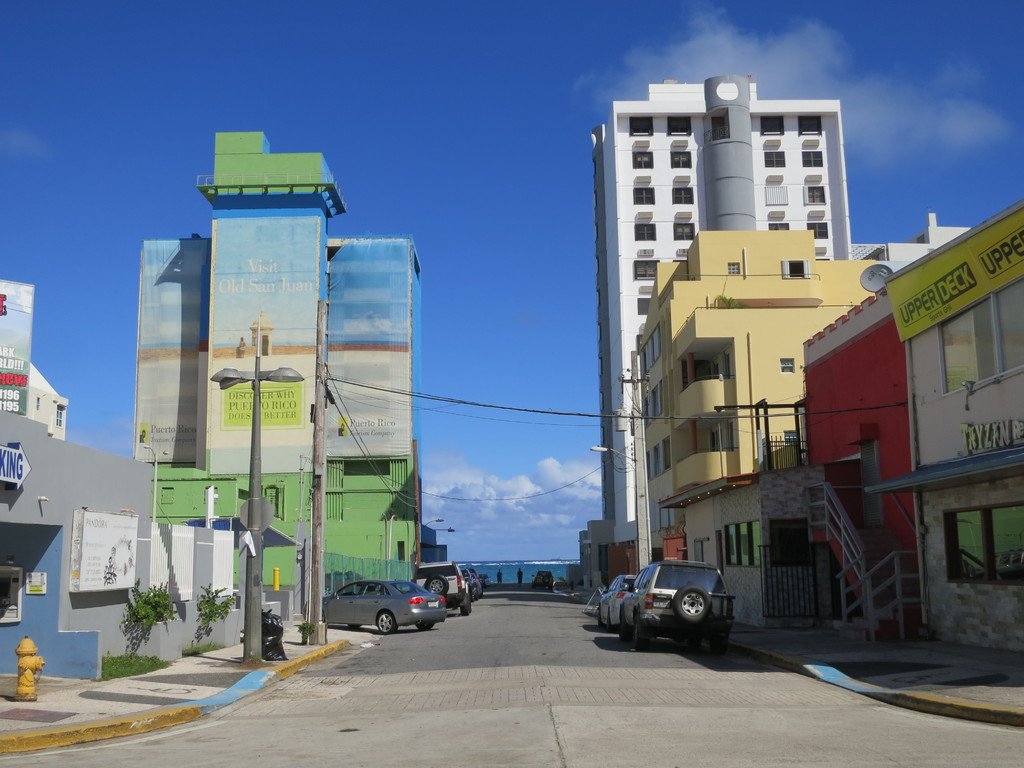mobil: (621, 555, 730, 645), (324, 571, 459, 639)
